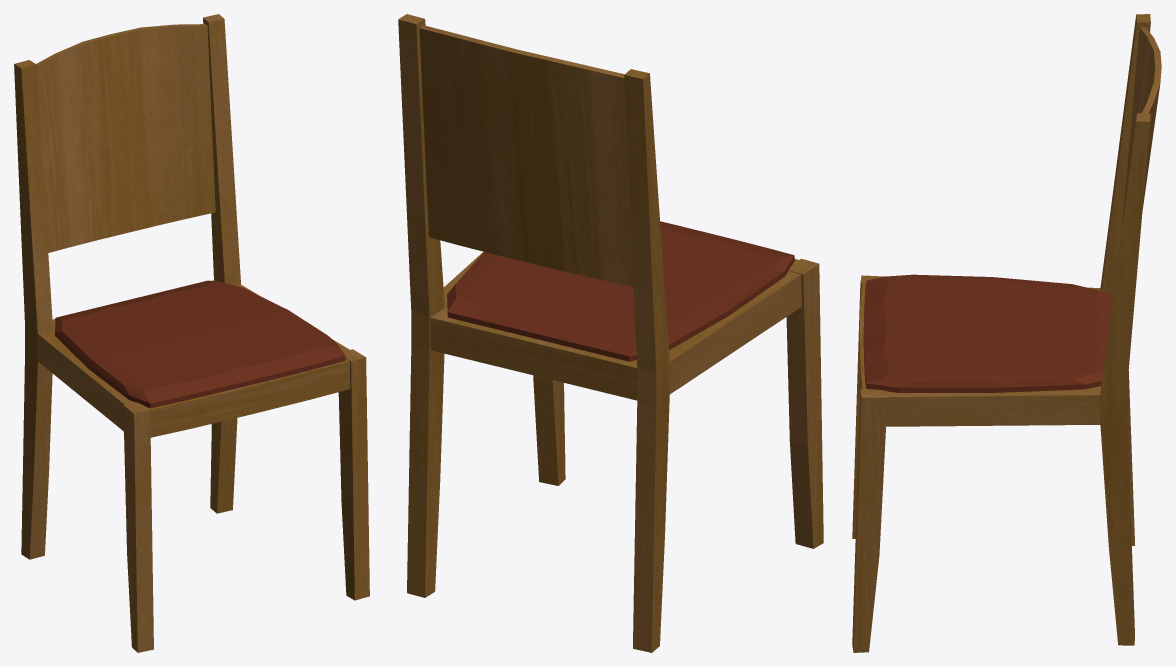
The model's file is chair4.obj.
3 views of the same model, side by side, from view 1: azimuth 30°, elevation 25°; view 2: azimuth 150°, elevation 25°; view 3: azimuth 270°, elevation 25° (orthographic). The views are drawn at different scales.
Parts seen in each view (by area): view 1: fusta_taula_tipic.001_fusta_taula_tipic_fusta_taula_tipic.001_ti, coixi_cadira_coixi_cadira_coixi_cadira.001; view 2: fusta_taula_tipic.001_fusta_taula_tipic_fusta_taula_tipic.001_ti, coixi_cadira_coixi_cadira_coixi_cadira.001; view 3: fusta_taula_tipic.001_fusta_taula_tipic_fusta_taula_tipic.001_ti, coixi_cadira_coixi_cadira_coixi_cadira.001.
Boxes of the visible parts, <box> form: fusta_taula_tipic.001_fusta_taula_tipic_fusta_taula_tipic.001_ti: <box>14,14,369,652</box>; coixi_cadira_coixi_cadira_coixi_cadira.001: <box>55,280,345,408</box>; fusta_taula_tipic.001_fusta_taula_tipic_fusta_taula_tipic.001_ti: <box>398,14,823,652</box>; coixi_cadira_coixi_cadira_coixi_cadira.001: <box>447,221,794,361</box>; fusta_taula_tipic.001_fusta_taula_tipic_fusta_taula_tipic.001_ti: <box>852,14,1161,652</box>; coixi_cadira_coixi_cadira_coixi_cadira.001: <box>863,274,1112,392</box>.
Size of the model in its own units: 44.12 by 88.37 by 47.17.
